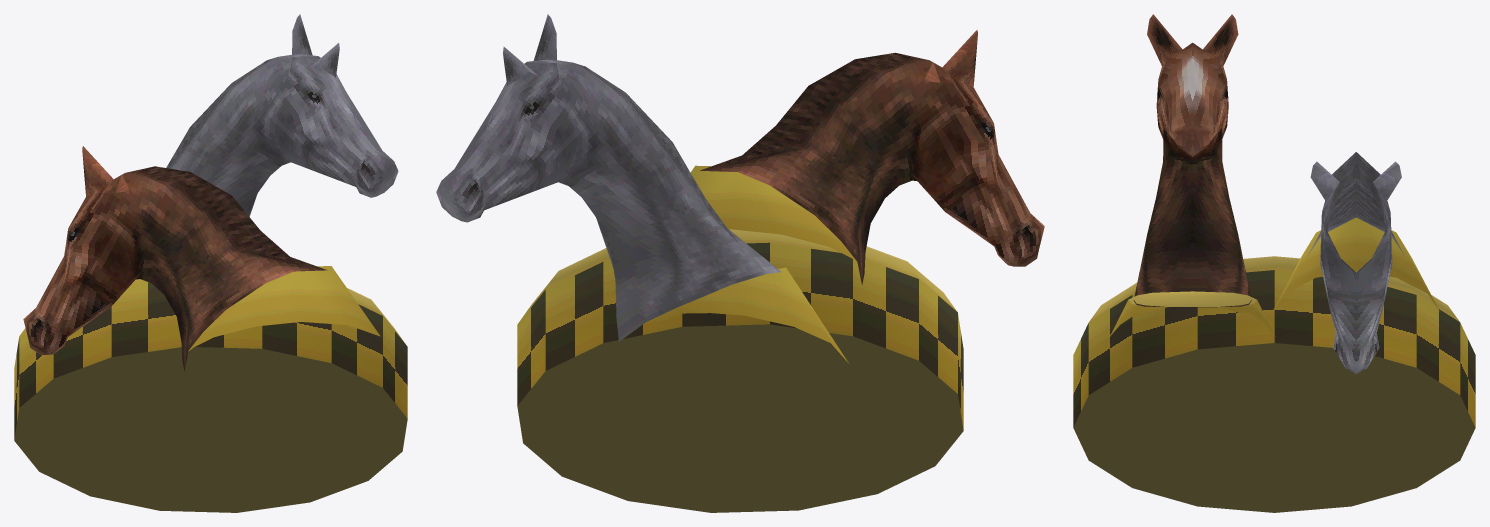
Rendered from ps2_save-icons_winningpost5maximum2002-dreammode.glb.
3 renders of one model, left to right at view 1: azimuth 30°, elevation 25°; view 2: azimuth 150°, elevation 25°; view 3: azimuth 270°, elevation 25°, orthographic. The views are drawn at different scales.
Parts seen in each view (by area): view 1: ic_dream.icn; view 2: ic_dream.icn; view 3: ic_dream.icn.
Boxes of the visible parts, box(x1,y1,x2,y2) form: ic_dream.icn: box(14, 14, 407, 512); ic_dream.icn: box(436, 14, 1044, 512); ic_dream.icn: box(1073, 14, 1475, 512).
Size of the model in its own units: 4.87 by 3.5 by 3.75.
Materials: 1 (1 with a texture image).
